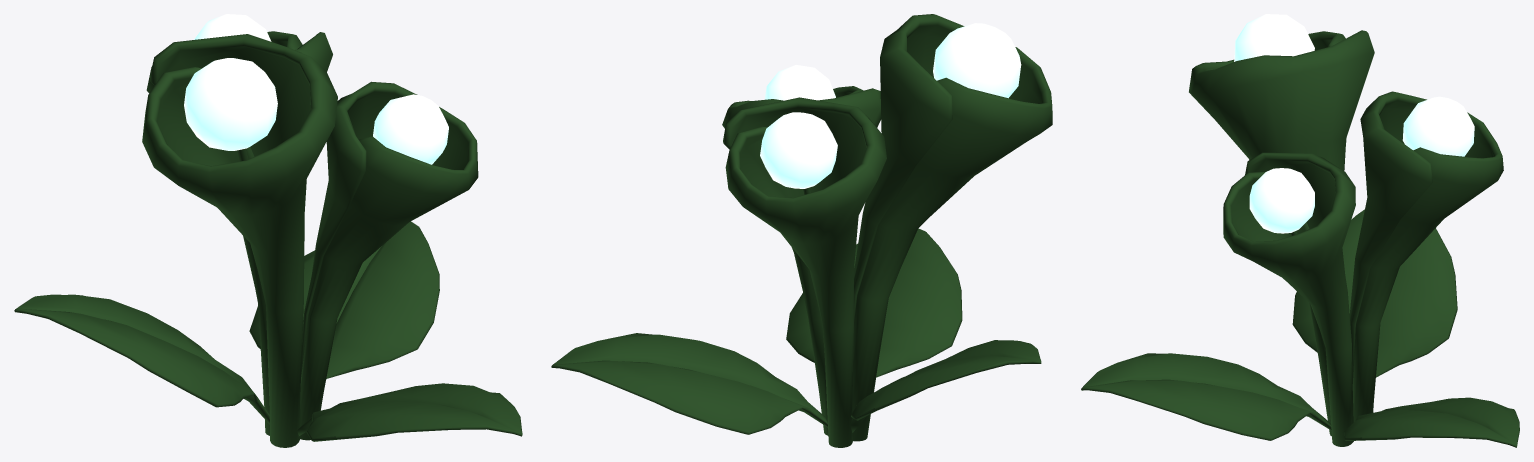
The model's file is Plant_02_merged.FBX.
The picture shows the model from 3 angles, left to right: view 1: azimuth 30°, elevation 25°; view 2: azimuth 150°, elevation 25°; view 3: azimuth 270°, elevation 25°; orthographic projection. The views are drawn at different scales.
Parts seen in each view (by area): view 1: Plant02_merge; view 2: Plant02_merge; view 3: Plant02_merge.
Boxes of the visible parts, x1,y1,x2,y2 form: Plant02_merge: (14,14,522,447); Plant02_merge: (551,14,1052,447); Plant02_merge: (1081,14,1519,447).
Bounding box in the file's own units: 209 × 199 × 188.
